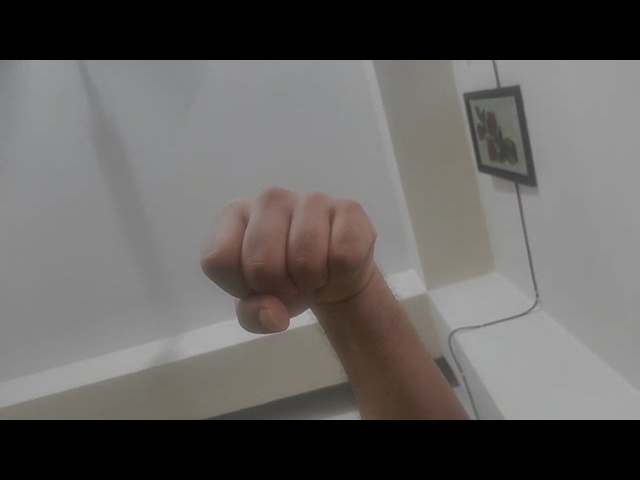Yes: (178, 176, 397, 349)
